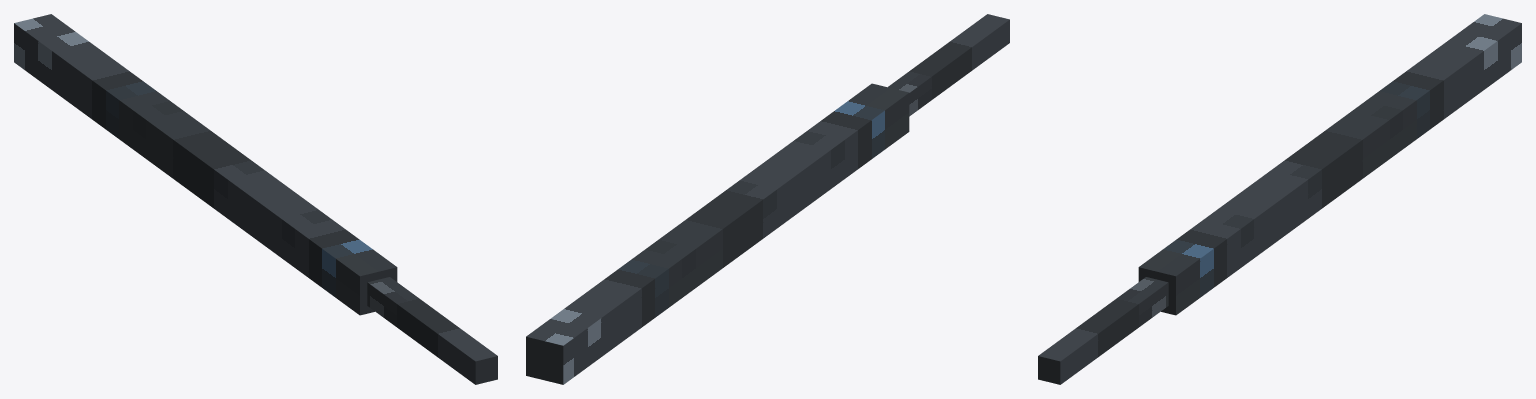
File: fx_hit_miss.glb
3 renders of one model, left to right at view 1: azimuth 30°, elevation 25°; view 2: azimuth 150°, elevation 25°; view 3: azimuth 330°, elevation 25°, orthographic.
Visible parts, largest first — view 1: miss_streak, miss_tail; view 2: miss_streak, miss_tail; view 3: miss_streak, miss_tail.
Boxes of the visible parts, left/top/right/bottom form: miss_streak: left=14, top=14, right=397, bottom=315; miss_tail: left=367, top=277, right=497, bottom=384; miss_streak: left=526, top=83, right=909, bottom=384; miss_tail: left=888, top=14, right=1009, bottom=116; miss_streak: left=1138, top=14, right=1521, bottom=315; miss_tail: left=1038, top=277, right=1168, bottom=384.
Size of the model in its own units: 0.05 by 0.05 by 1.05.
1 material, 1 textured.
